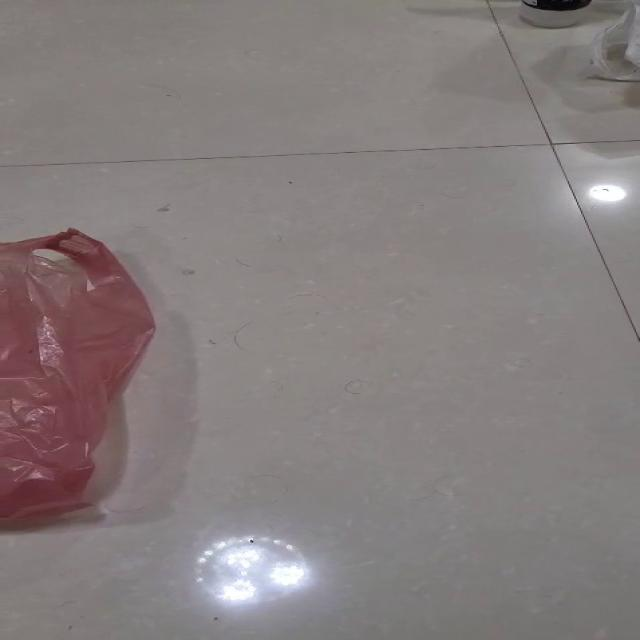plastic: (0, 227, 157, 523)
